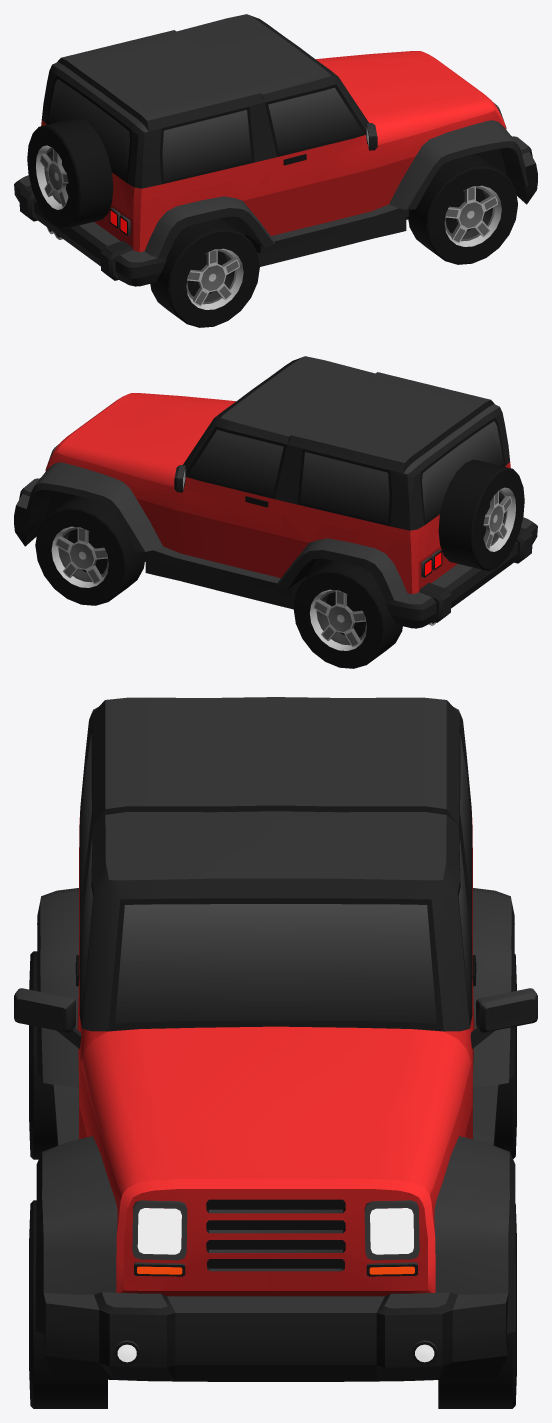
The model's file is Car_030.glb.
3 renders of one model, top to bottom at view 1: azimuth 30°, elevation 25°; view 2: azimuth 150°, elevation 25°; view 3: azimuth 270°, elevation 25°, orthographic. The views are drawn at different scales.
Visible parts, largest first — view 1: Car_030, wheel_1_Car_030_Wheel_1R, wheel_3_Car_030_Wheel_2R; view 2: Car_030, wheel_0_Car_030_Wheel_1L, wheel_2_Car_030_Wheel_2L; view 3: Car_030, wheel_1_Car_030_Wheel_1R, wheel_0_Car_030_Wheel_1L, wheel_3_Car_030_Wheel_2R, wheel_2_Car_030_Wheel_2L.
Boxes of the visible parts, x1,y1,x2,y2 form: Car_030: [14, 14, 537, 286]; wheel_1_Car_030_Wheel_1R: [408, 154, 517, 264]; wheel_3_Car_030_Wheel_2R: [150, 218, 259, 327]; Car_030: [14, 356, 537, 628]; wheel_0_Car_030_Wheel_1L: [35, 496, 145, 605]; wheel_2_Car_030_Wheel_2L: [293, 560, 402, 668]; Car_030: [14, 697, 537, 1381]; wheel_1_Car_030_Wheel_1R: [29, 1200, 107, 1408]; wheel_0_Car_030_Wheel_1L: [438, 1203, 516, 1408]; wheel_3_Car_030_Wheel_2R: [29, 951, 57, 1159]; wheel_2_Car_030_Wheel_2L: [494, 954, 516, 1158].
Bounding box in the file's own units: 4.28 × 1.91 × 2.23.
2 materials, 2 textured.
